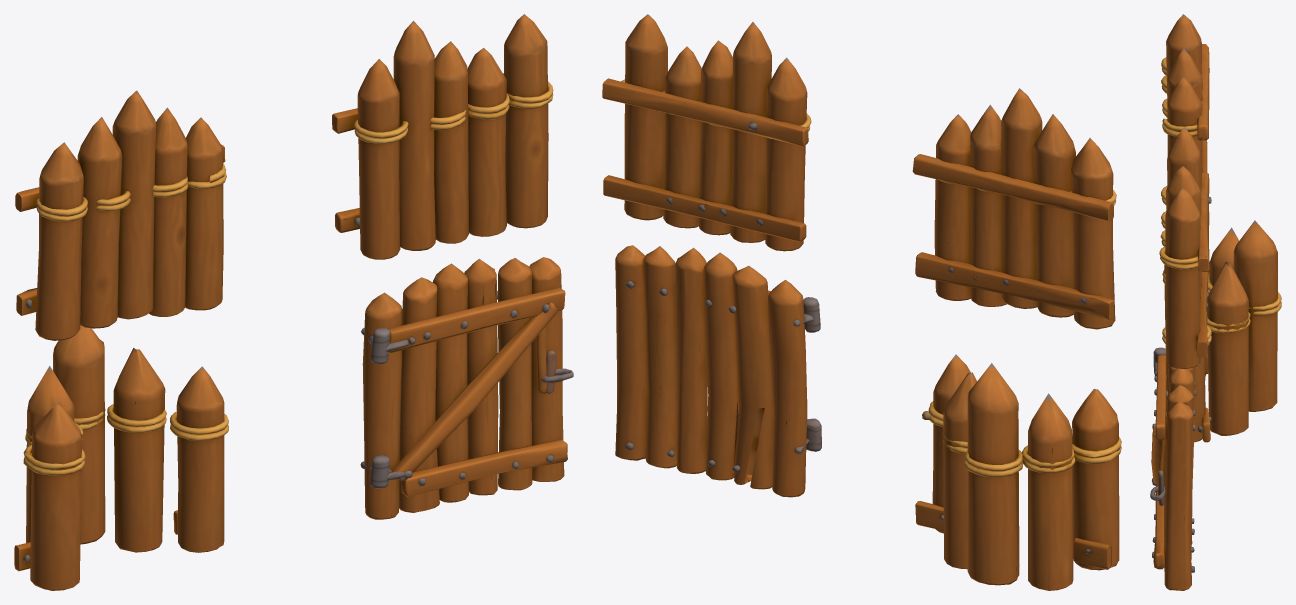
Rendered from coleccion_valla.glb.
3 renders of one model, left to right at view 1: azimuth 30°, elevation 25°; view 2: azimuth 150°, elevation 25°; view 3: azimuth 270°, elevation 25°, orthographic. The views are drawn at different scales.
Parts seen in each view (by area): view 1: geometry_0; view 2: geometry_0; view 3: geometry_0.
Part boxes in pixels (bbox=[...]): geometry_0: bbox=[14, 14, 573, 590]; geometry_0: bbox=[602, 14, 1121, 590]; geometry_0: bbox=[1150, 14, 1281, 590].
Bounding box in the file's own units: 1 × 0.8838 × 0.2595.
1 material, 1 textured.
